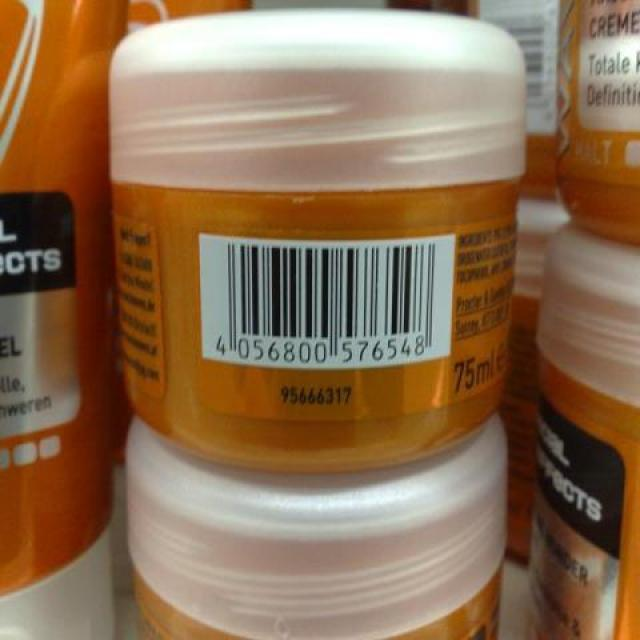Barcode: (200, 236, 453, 367)
